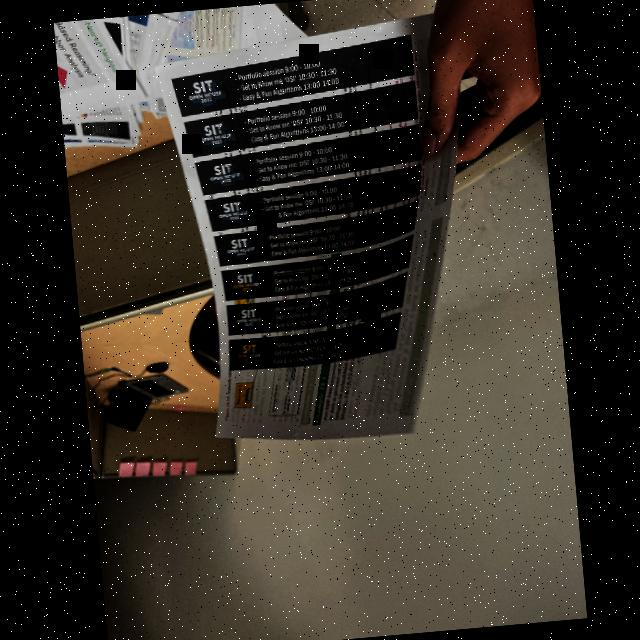reuseable_paper: (144, 7, 492, 456), (54, 13, 176, 163)
